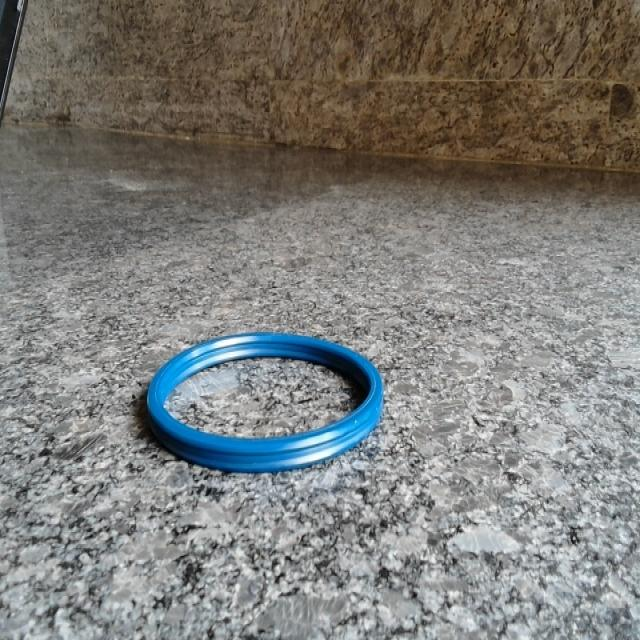purssian-blue-ring: (148, 333, 384, 472)
